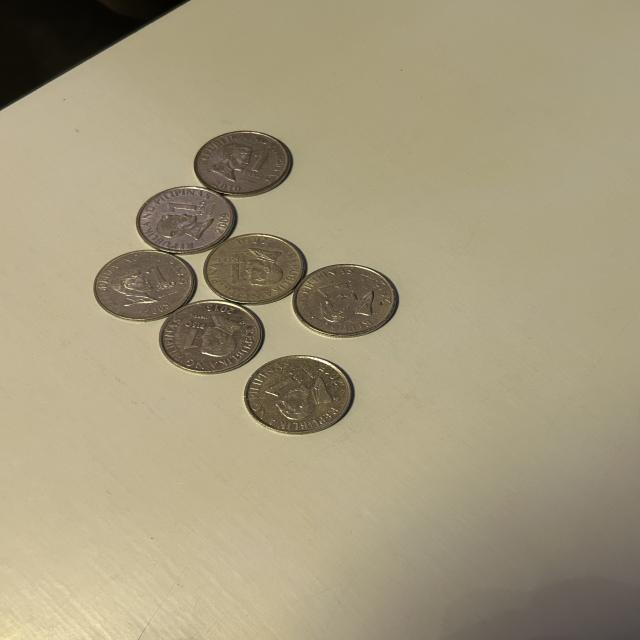1_Old_Front: (313, 277, 374, 302), (262, 368, 306, 398), (163, 196, 212, 220), (144, 261, 176, 296), (221, 252, 248, 288), (180, 317, 207, 353), (239, 150, 270, 181)
